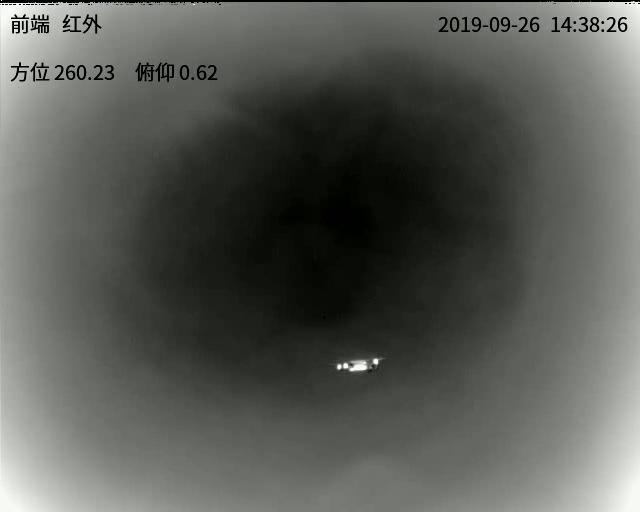DRONE: (334, 355, 384, 377)
